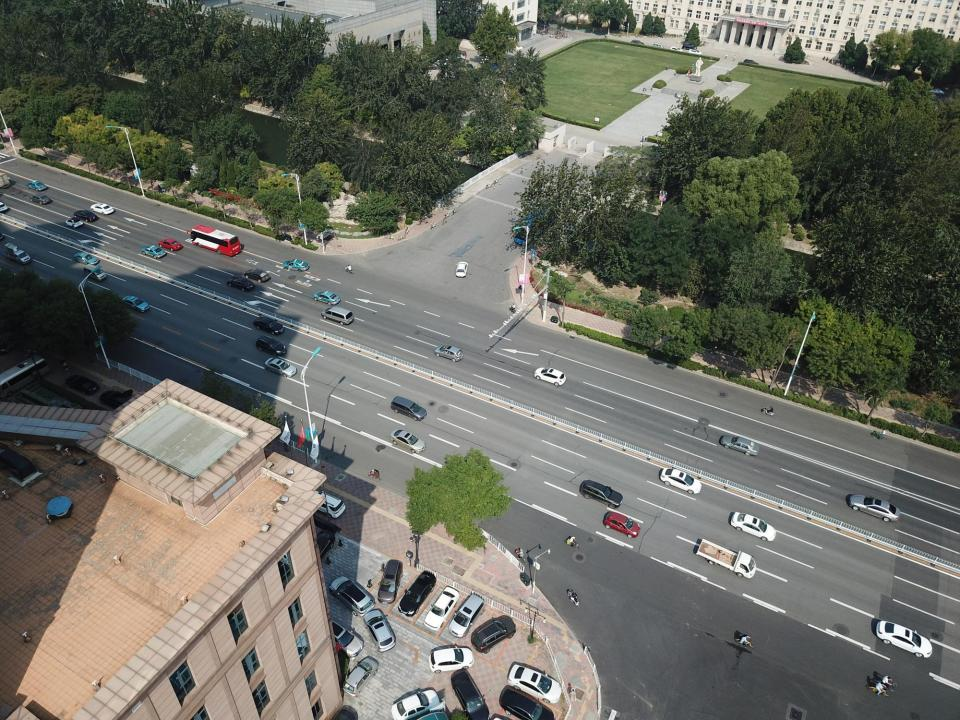bus: (188, 225, 242, 256)
car: (508, 664, 562, 704), (876, 620, 928, 658), (451, 671, 490, 720), (329, 576, 375, 616), (499, 688, 556, 720), (470, 616, 516, 654), (398, 572, 436, 616), (423, 586, 460, 630), (848, 494, 901, 522), (391, 690, 440, 720), (363, 610, 396, 652), (343, 658, 378, 697), (731, 512, 775, 542), (429, 646, 474, 674), (580, 479, 622, 509), (331, 620, 363, 658), (377, 560, 403, 604), (660, 467, 702, 494), (603, 511, 640, 538), (314, 490, 346, 519), (390, 429, 426, 453), (720, 434, 759, 456), (264, 356, 296, 377), (255, 335, 286, 356), (533, 367, 566, 386), (315, 530, 335, 560), (253, 316, 284, 334), (434, 344, 463, 362), (122, 295, 150, 312), (226, 276, 255, 292), (244, 268, 270, 284), (313, 291, 341, 305), (141, 245, 166, 259), (158, 238, 183, 252), (73, 252, 99, 265), (283, 259, 309, 272), (73, 209, 98, 222), (90, 203, 115, 215), (25, 180, 48, 191), (30, 193, 50, 205), (65, 217, 84, 229), (456, 261, 468, 277), (630, 40, 644, 47), (688, 49, 704, 55), (682, 43, 698, 49), (670, 46, 684, 52)
truck: (696, 538, 756, 578), (2, 243, 32, 264), (0, 171, 11, 189)
van: (448, 594, 486, 638), (390, 396, 427, 420), (321, 306, 354, 326), (83, 264, 107, 282), (652, 42, 664, 48)
